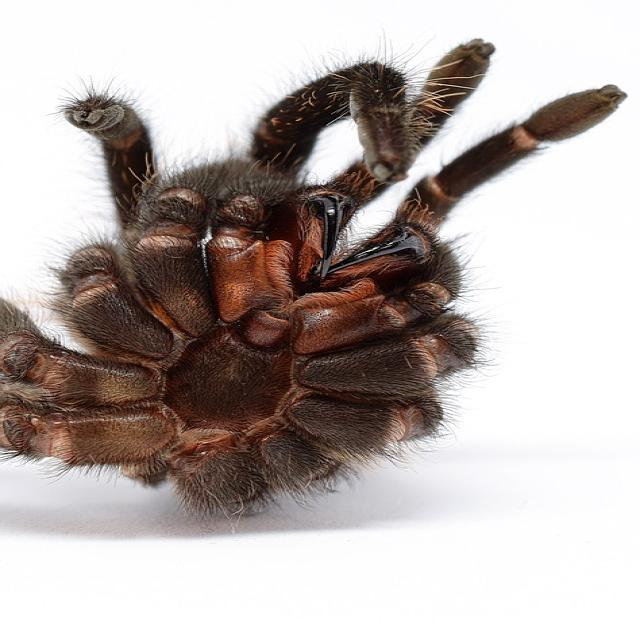spyder: (2, 40, 626, 513)
